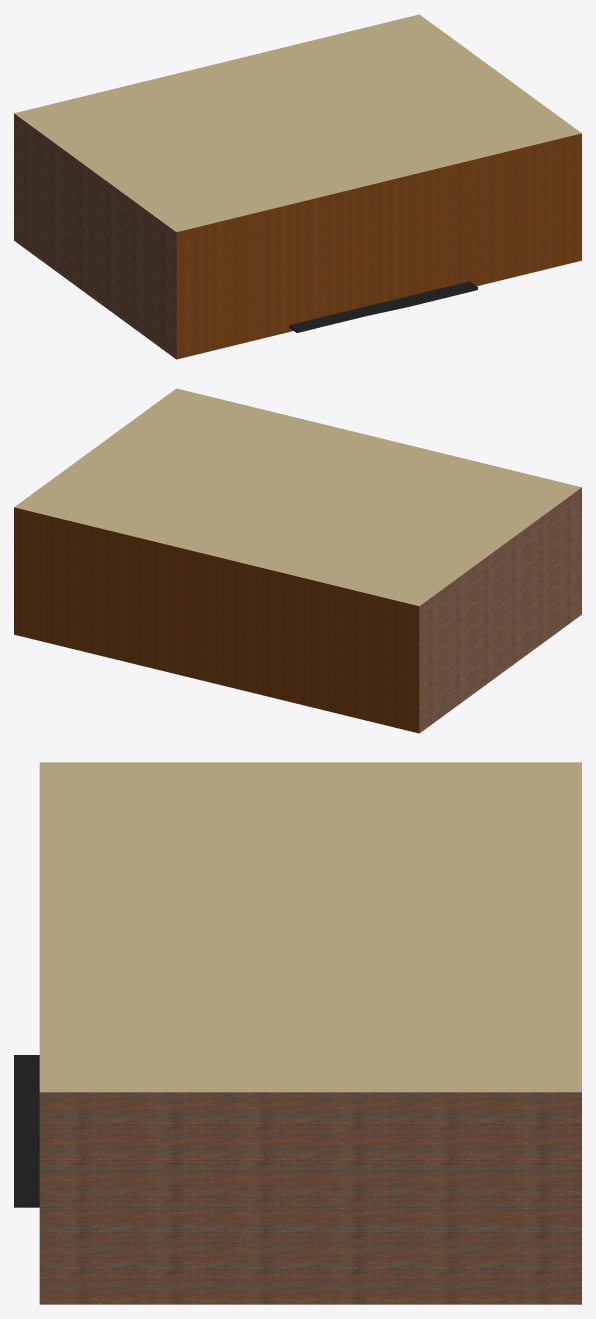
Rendered from Theater4.fbx.
The picture shows the model from 3 angles, top to bottom: view 1: azimuth 30°, elevation 25°; view 2: azimuth 150°, elevation 25°; view 3: azimuth 270°, elevation 25°; orthographic projection. The views are drawn at different scales.
Parts seen in each view (by area): view 1: Theater, Stage; view 2: Theater; view 3: Theater, Stage.
Part boxes in pixels (box(x1,y1,x2,y2)): Theater: box(14, 14, 581, 359); Stage: box(289, 281, 477, 332); Theater: box(14, 388, 581, 733); Theater: box(39, 762, 581, 1304); Stage: box(14, 1055, 39, 1207).
Bounding box in the file's own units: 50 × 15 × 36.36.
